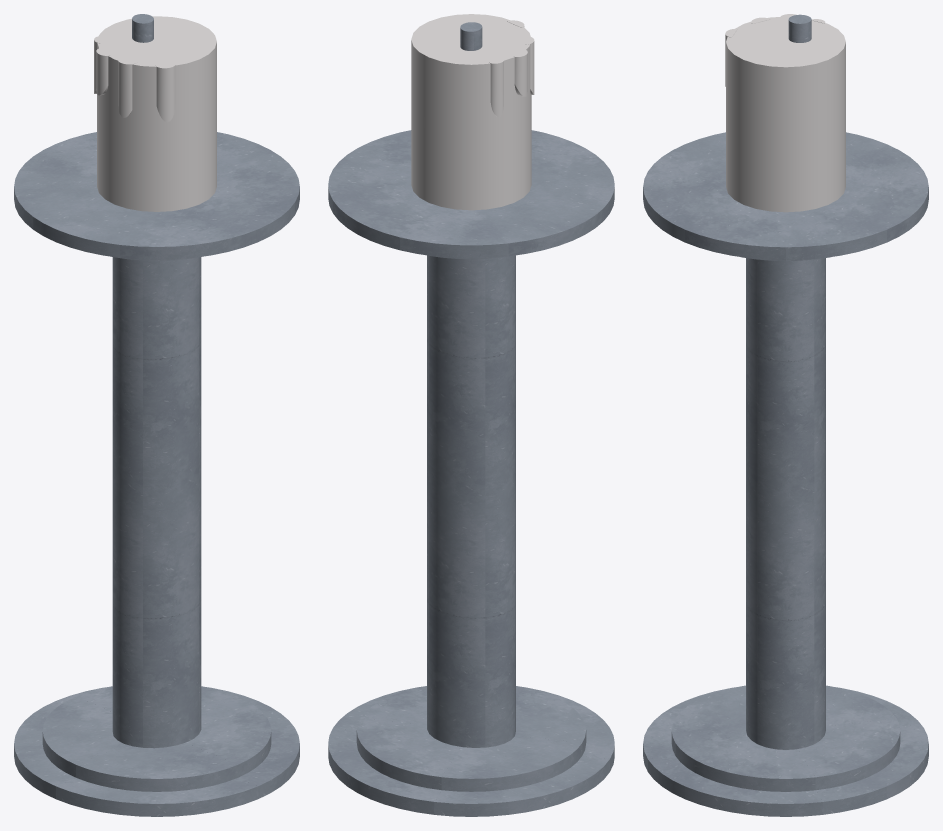
Rendered from candle+longholder.fbx.
The picture shows the model from 3 angles, left to right: view 1: azimuth 30°, elevation 25°; view 2: azimuth 150°, elevation 25°; view 3: azimuth 270°, elevation 25°; orthographic projection.
Parts seen in each view (by area): view 1: cylinder (×3), porch_floorCornerCurve% (×8), detail_pipeEndSmall (×3); view 2: cylinder (×3), porch_floorCornerCurve% (×8), detail_pipeEndSmall (×2); view 3: cylinder (×3), porch_floorCornerCurve% (×8).
Part boxes in pixels (left/top/right/bottom): cylinder (×3): left=97, top=14, right=216, bottom=748; porch_floorCornerCurve% (×8): left=14, top=132, right=299, bottom=816; detail_pipeEndSmall (×3): left=96, top=48, right=175, bottom=122; cylinder (×3): left=411, top=14, right=531, bottom=747; porch_floorCornerCurve% (×8): left=328, top=130, right=614, bottom=816; detail_pipeEndSmall (×2): left=489, top=49, right=527, bottom=117; cylinder (×3): left=726, top=14, right=845, bottom=749; porch_floorCornerCurve% (×8): left=643, top=132, right=928, bottom=816.
Bounding box in the file's own units: 10 × 28.34 × 10.
2 materials, 1 textured.
